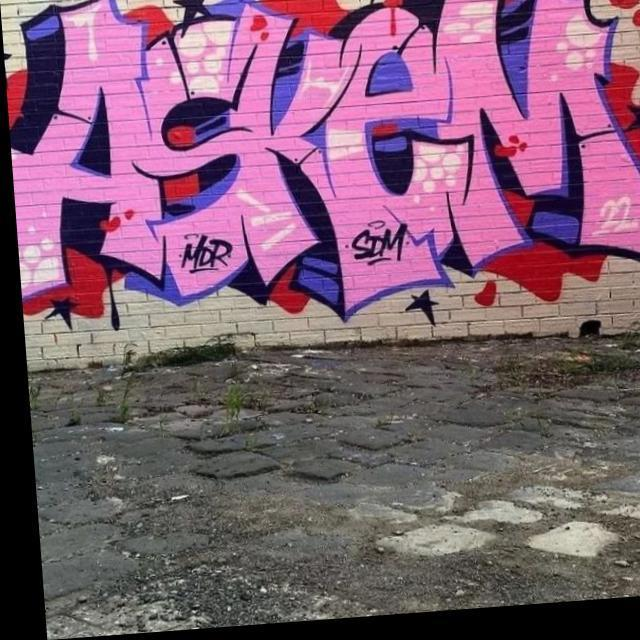-: (0, 0, 640, 334), (340, 216, 426, 282), (170, 226, 234, 286), (592, 192, 640, 252)
